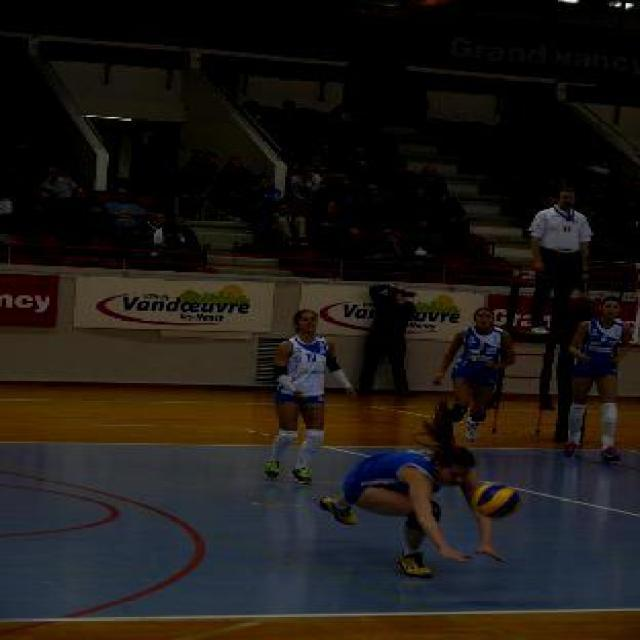volleyball: (473, 482, 523, 520)
